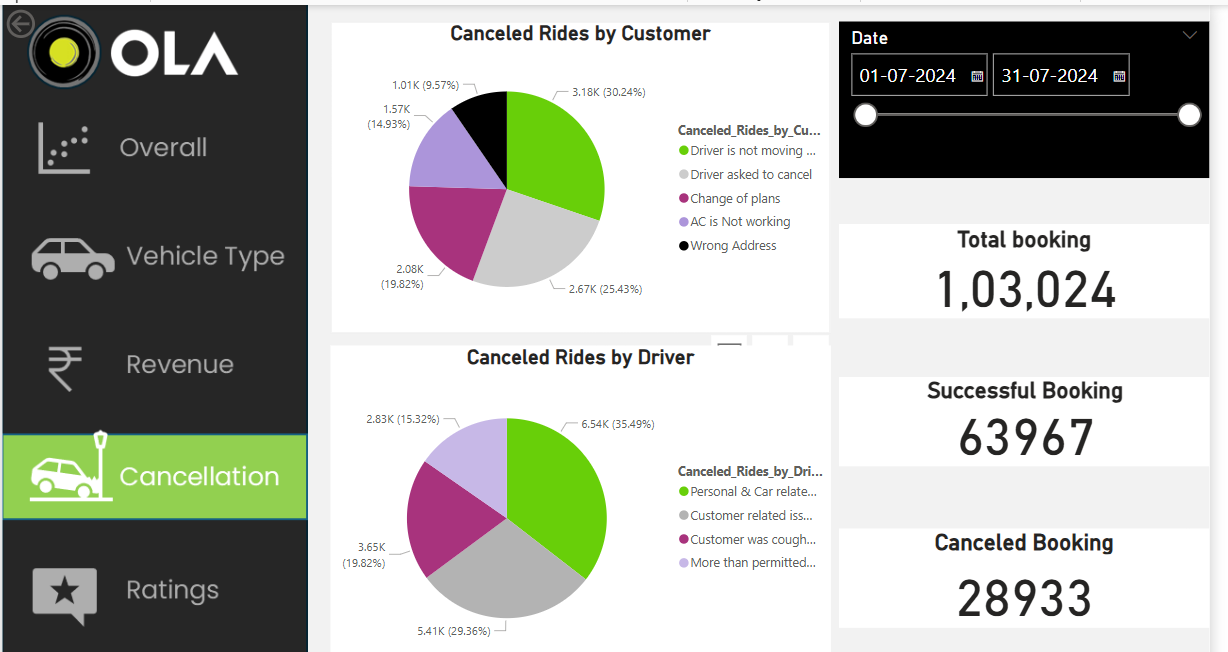

Layout of this report page (visuals, bound fields, positions):
{"tool":"powerbi","page":{"name":"cancellation","canvas":[1280,720],"ordinal":3},"visuals":[{"type":"actionButton","box":[0,222.7,324.5,90.7],"z":0},{"type":"actionButton","box":[0,108.2,324.5,97],"z":1000},{"type":"actionButton","box":[0,332.4,324.5,93.8],"z":2000},{"type":"actionButton","box":[0,579,324.5,95.4],"z":3000},{"type":"pieChart","title":"Canceled Rides by Customer ","fields":{"Category":["July.Canceled_Rides_by_Customer"],"Y":["CountNonNull(July.Canceled_Rides_by_Customer)"]},"box":[348.2,17.9,530.4,330.4],"z":4000},{"type":"pieChart","title":"Canceled Rides by Driver ","fields":{"Category":["July.Canceled_Rides_by_Driver"],"Y":["CountNonNull(July.Canceled_Rides_by_Driver)"]},"box":[348.2,360.7,530.4,341.1],"z":5000},{"type":"slicer","fields":{"Values":["July.Date"]},"box":[887.5,17.9,392.9,166.1],"z":5001},{"type":"card","title":"Total booking ","fields":{"Values":["CountNonNull(July.Booking_ID)"]},"box":[887.5,232.1,392.9,100],"z":5002},{"type":"card","title":"Successful Booking","fields":{"Values":["CountNonNull(July.Booking_ID)"]},"box":[887.5,394.6,392.9,94.6],"z":5003},{"type":"actionButton","box":[0,0,100,40],"z":5004},{"type":"card","title":"Canceled Booking","fields":{"Values":["CountNonNull(July.Booking_Status)"]},"box":[887.5,555.4,392.9,105.4],"z":5005}]}

Visuals, with their boxes on the page's 1280x720 design canvas (x1, y1, x2, y2). These are canvas units, not pixel positions in the 1228x652 screenshot, which may show the page scaled, cropped or inside an application window:
actionButton: <bbox>0, 223, 324, 313</bbox>
actionButton: <bbox>0, 108, 324, 205</bbox>
actionButton: <bbox>0, 332, 324, 426</bbox>
actionButton: <bbox>0, 579, 324, 674</bbox>
"Canceled Rides by Customer " pieChart: <bbox>348, 18, 879, 348</bbox>
"Canceled Rides by Driver " pieChart: <bbox>348, 361, 879, 702</bbox>
slicer - July.Date: <bbox>888, 18, 1280, 184</bbox>
"Total booking " card: <bbox>888, 232, 1280, 332</bbox>
"Successful Booking" card: <bbox>888, 395, 1280, 489</bbox>
actionButton: <bbox>0, 0, 100, 40</bbox>
"Canceled Booking" card: <bbox>888, 555, 1280, 661</bbox>
